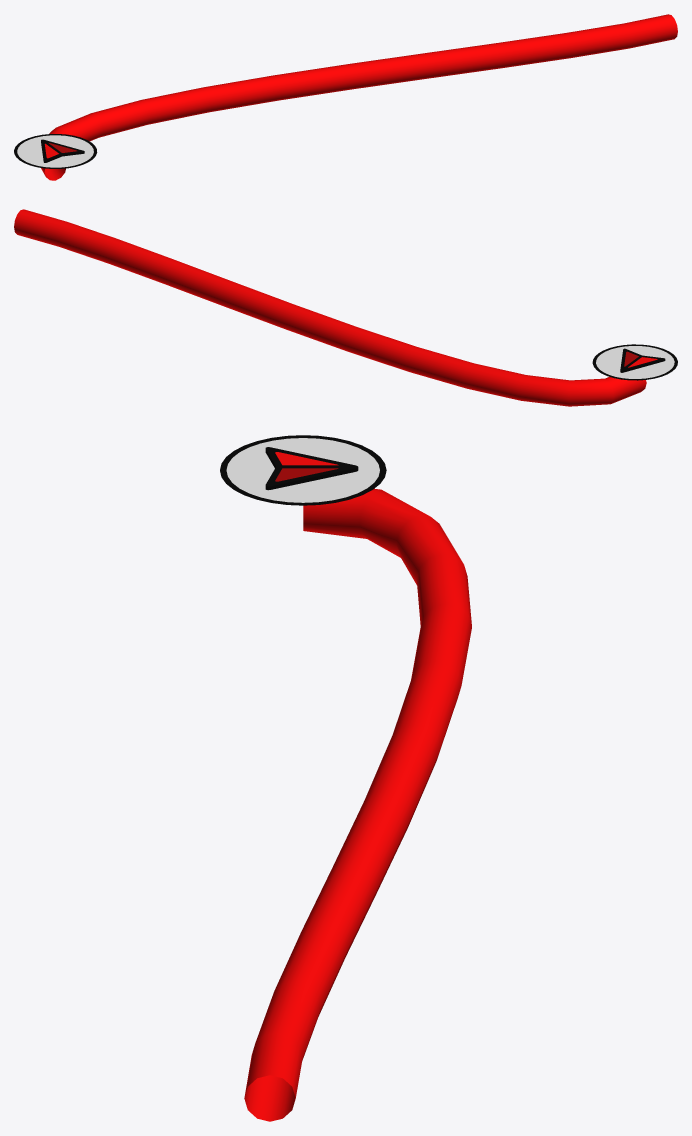
The model's file is route_1688aa47-8af1-4395-ad6f-6d54be3d3aca_de_single.glb.
3 views of the same model, one above another, from view 1: azimuth 30°, elevation 25°; view 2: azimuth 150°, elevation 25°; view 3: azimuth 270°, elevation 25° (orthographic). The views are drawn at different scales.
Parts seen in each view (by area): view 1: B1, Navipfeil.053; view 2: B1, Navipfeil.053; view 3: B1, Navipfeil.053.
Boxes of the visible parts, x1=… form: B1: x1=41, y1=14, x2=677, y2=180; Navipfeil.053: x1=14, y1=134, x2=97, y2=168; B1: x1=14, y1=209, x2=646, y2=406; Navipfeil.053: x1=592, y1=344, x2=677, y2=380; B1: x1=244, y1=488, x2=471, y2=1121; Navipfeil.053: x1=220, y1=435, x2=386, y2=505.
Size of the model in its own units: 2.31 by 0.1062 by 0.3923.
